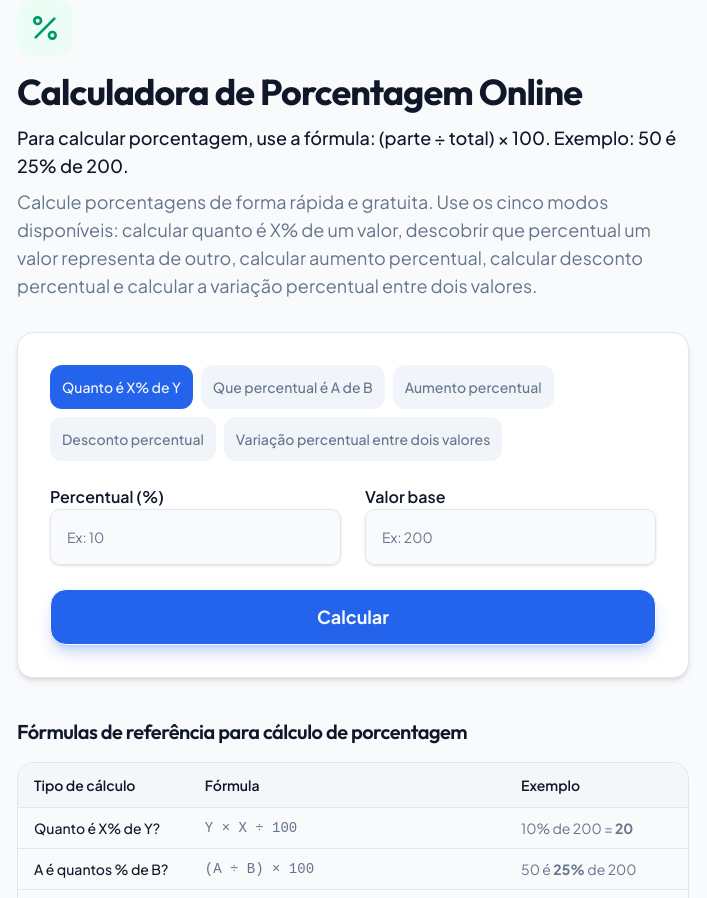
Test: 7.2 — Integração: componente Porcentagem › submissão válida no modo 'porcentagem-de' exibe ResultBox com valor e explicação
Type "10" into the field labelled "Percentual (%)" at (196, 537), box [50,509,341,565]
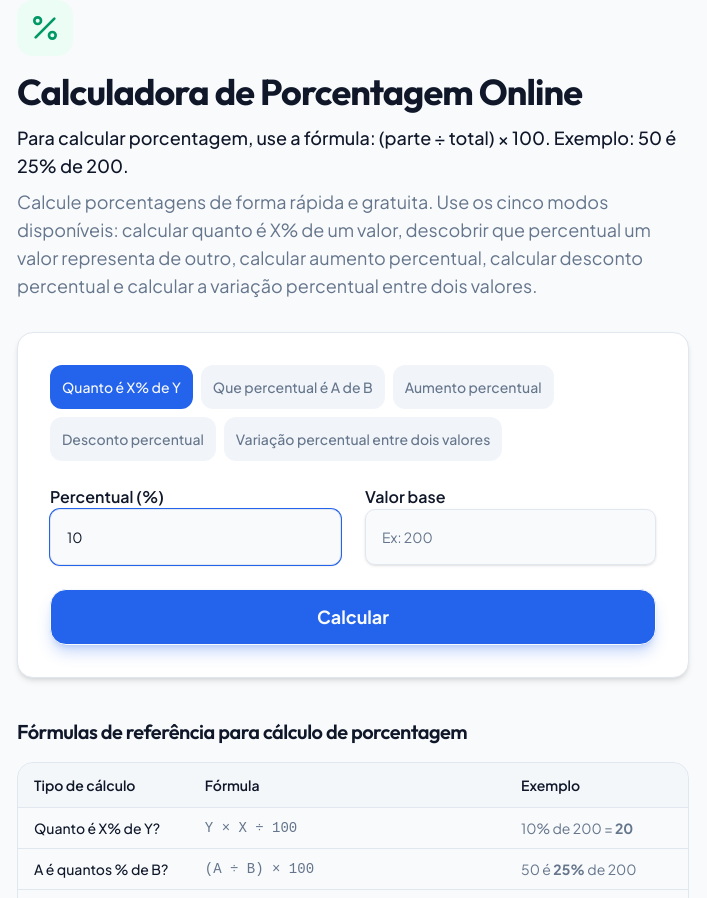
Type "200" into the field labelled "Valor base" at (510, 537), box [365,509,656,565]
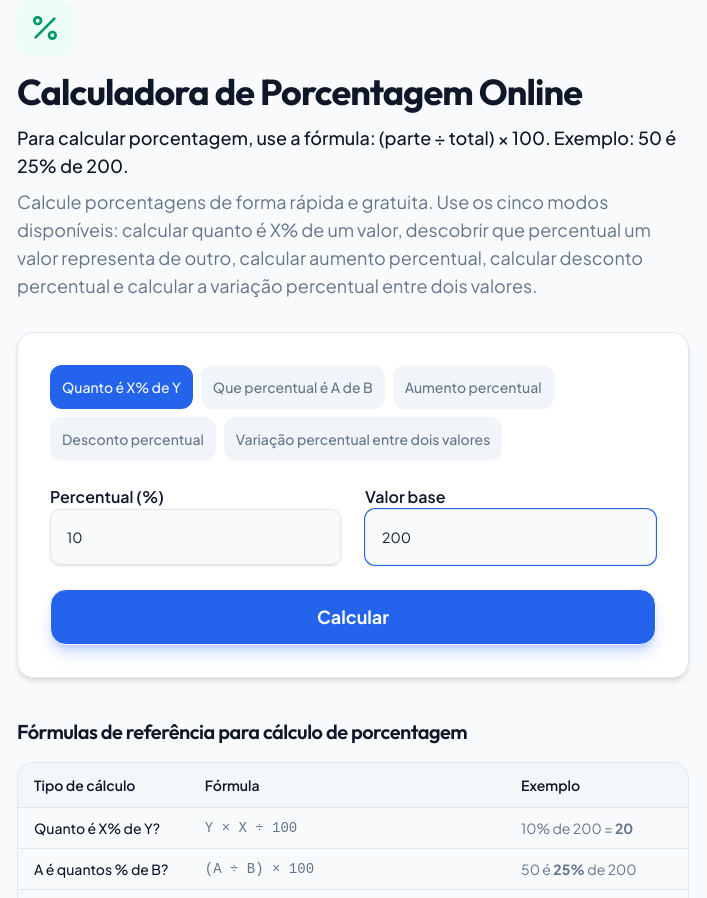
Click the button "Calcular" at (353, 617), box [50,589,656,645]
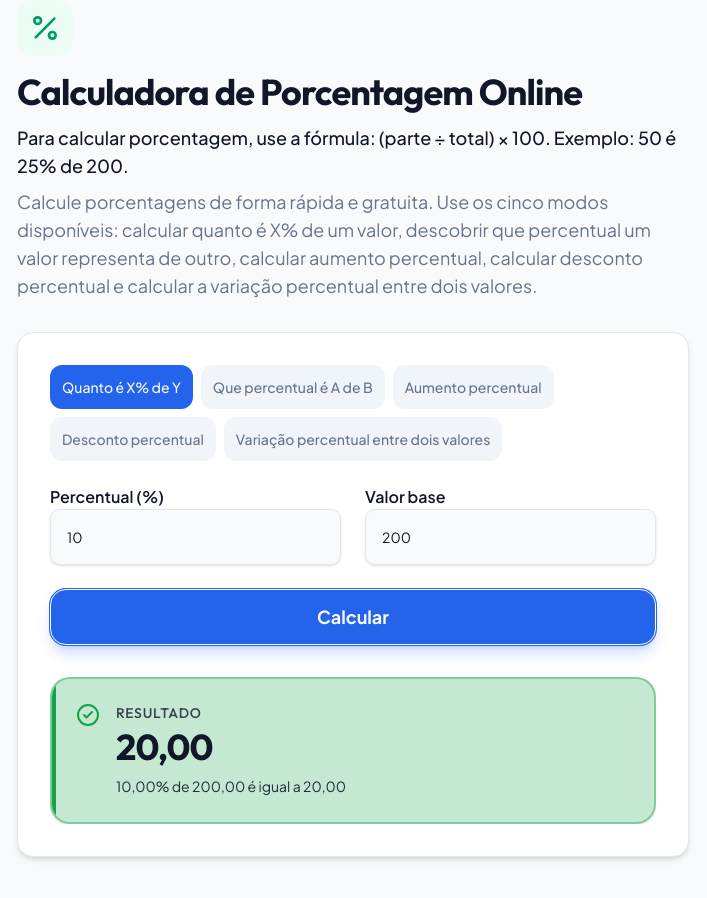
Expected: the text "20,00" is shown, [116,724,213,769]
Expected: the text "10,00% de 200,00 é igual a 20,00" is shown, [116,777,346,795]
